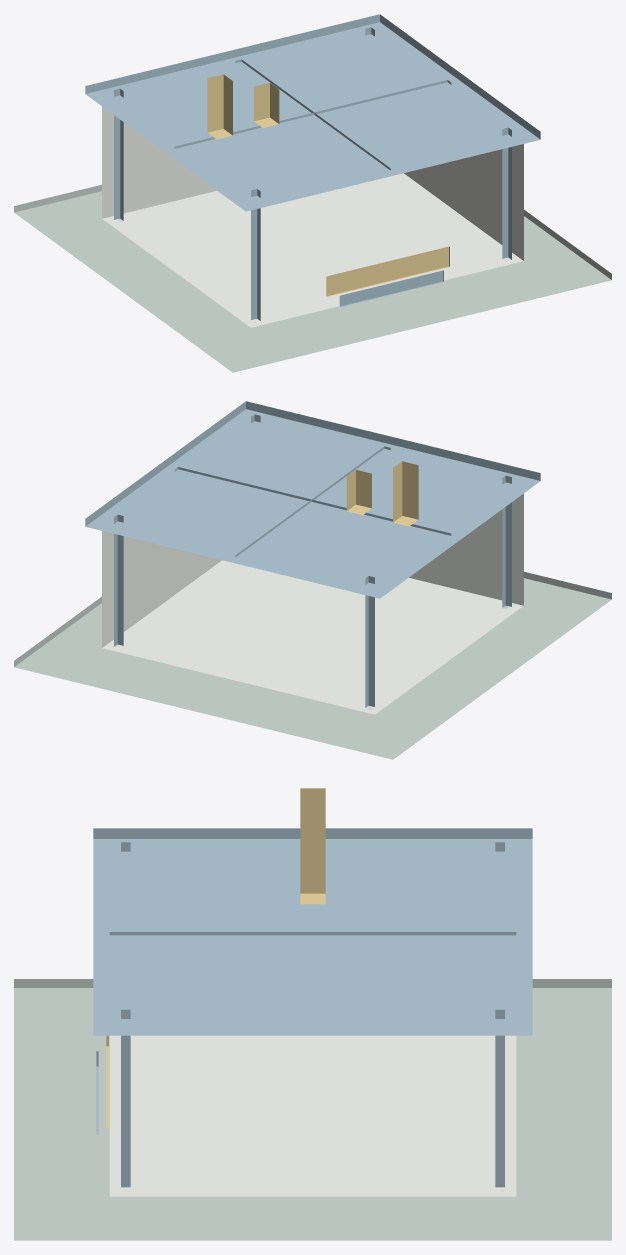
Rendered from market.glb.
3 views of the same model, one above another, from view 1: azimuth 30°, elevation 25°; view 2: azimuth 150°, elevation 25°; view 3: azimuth 270°, elevation 25° (orthographic). The views are drawn at different scales.
Visible parts, largest first — view 1: Roof, Walls, Foundation, Details, Frame; view 2: Roof, Walls, Foundation, Frame, Details; view 3: Roof, Foundation, Walls, Frame, Details.
Part boxes in pixels (<box>): Roof: <box>85,14,540,211</box>; Walls: <box>102,106,523,327</box>; Foundation: <box>14,184,611,372</box>; Details: <box>207,74,449,306</box>; Frame: <box>114,27,511,322</box>; Roof: <box>85,401,540,598</box>; Walls: <box>102,493,523,714</box>; Foundation: <box>14,571,611,759</box>; Frame: <box>114,414,511,709</box>; Details: <box>346,461,418,526</box>; Roof: <box>93,828,532,1035</box>; Foundation: <box>14,979,611,1240</box>; Walls: <box>109,1035,516,1196</box>; Frame: <box>109,842,516,1191</box>; Details: <box>96,788,325,1135</box>.
Size of the model in its own units: 40 by 19.1 by 40.
